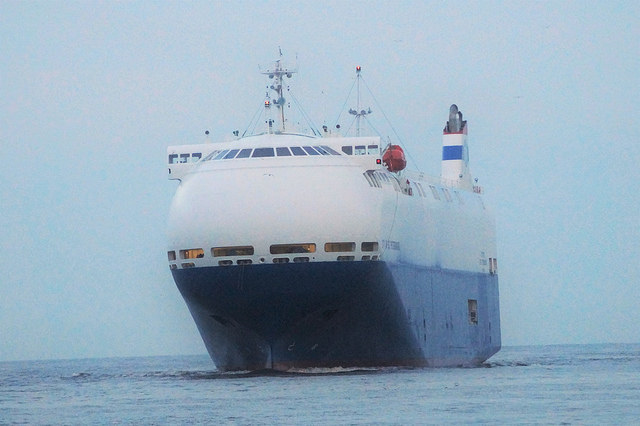PCC: (169, 38, 507, 369)
